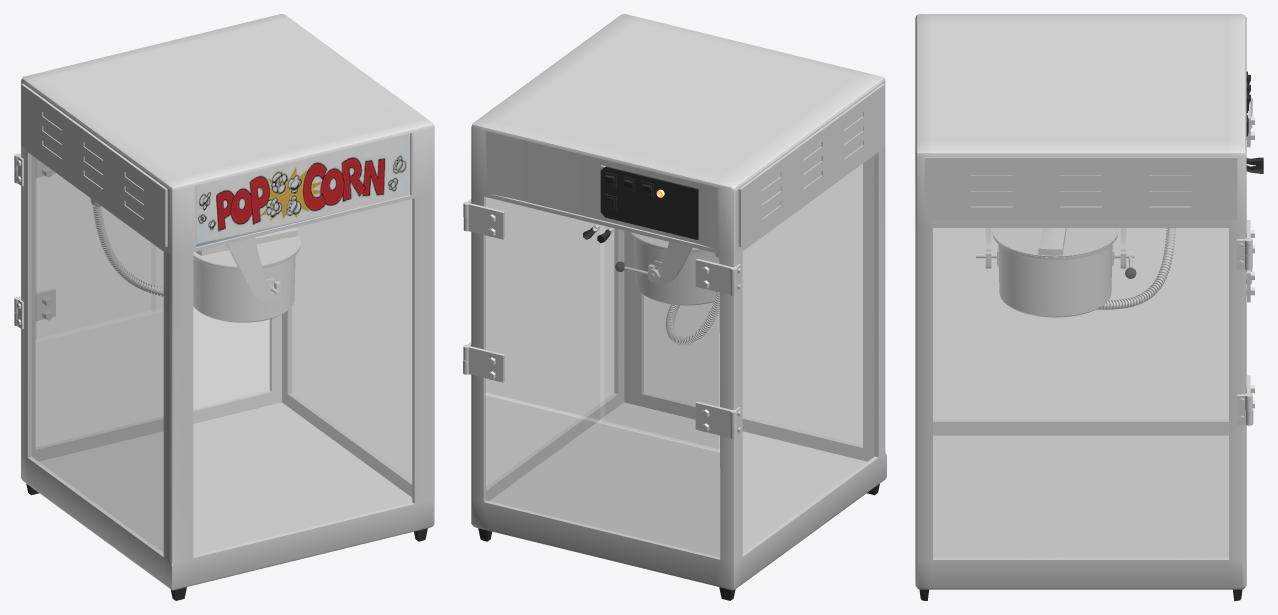
File: popcorn_machine.glb
The picture shows the model from 3 angles, left to right: view 1: azimuth 30°, elevation 25°; view 2: azimuth 150°, elevation 25°; view 3: azimuth 270°, elevation 25°; orthographic projection. The views are drawn at different scales.
Parts seen in each view (by area): view 1: korpus_11, door_pr_1; view 2: korpus_11, door_L_0, door_pr_1, Plane_10; view 3: korpus_11, door_L_0, door_pr_1.
Part boxes in pixels (bbox=[...]): korpus_11: bbox=[14, 14, 434, 600]; door_pr_1: bbox=[14, 153, 153, 340]; korpus_11: bbox=[463, 14, 886, 600]; door_L_0: bbox=[463, 197, 602, 421]; door_pr_1: bbox=[597, 225, 737, 450]; Plane_10: bbox=[600, 165, 698, 239]; korpus_11: bbox=[915, 14, 1253, 600]; door_L_0: bbox=[1245, 165, 1263, 410]; door_pr_1: bbox=[1246, 97, 1263, 302].
Bounding box in the file's own units: 0.6731 × 0.9782 × 0.6834.
Materials: 7 (1 with a texture image).
